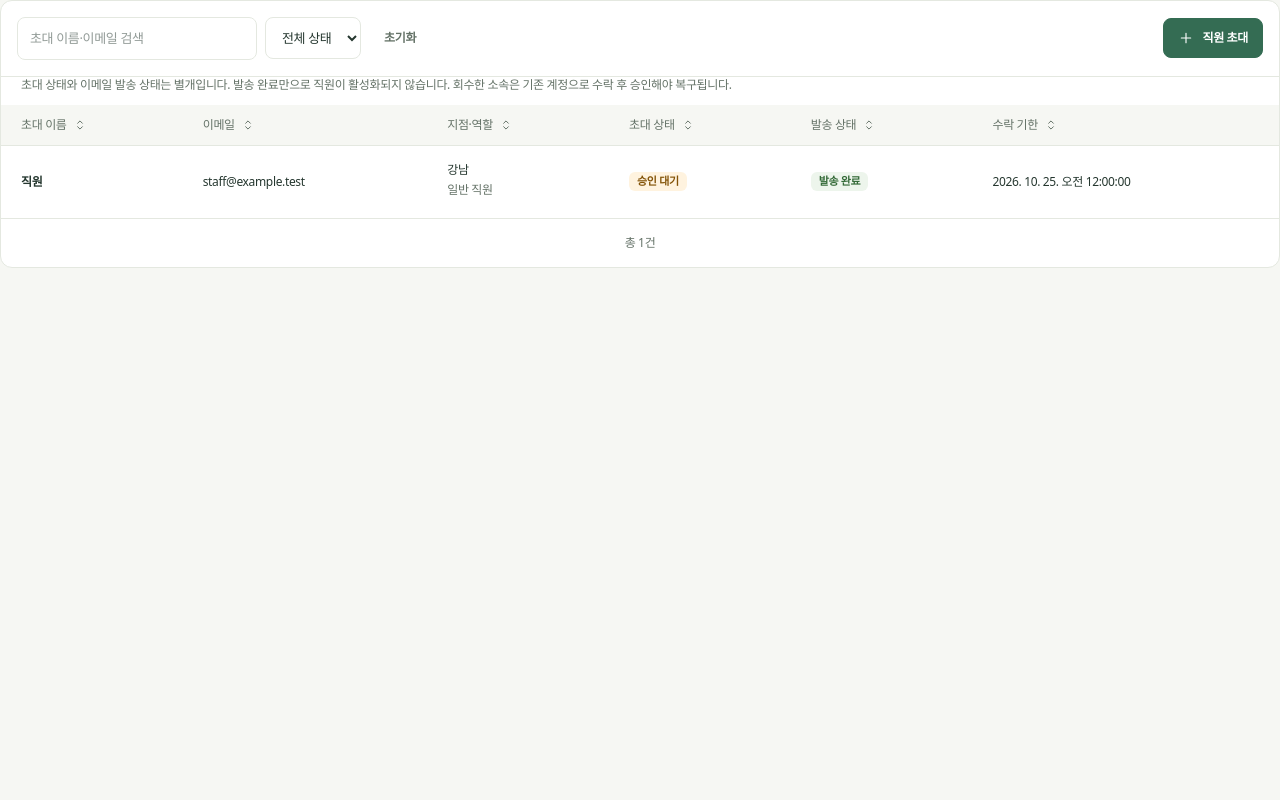
Test: keeps the rejection reason across a conflict and uses the explicitly refreshed version
Step 1. Click the button "직원" → (32, 182), box [21,174,42,190]
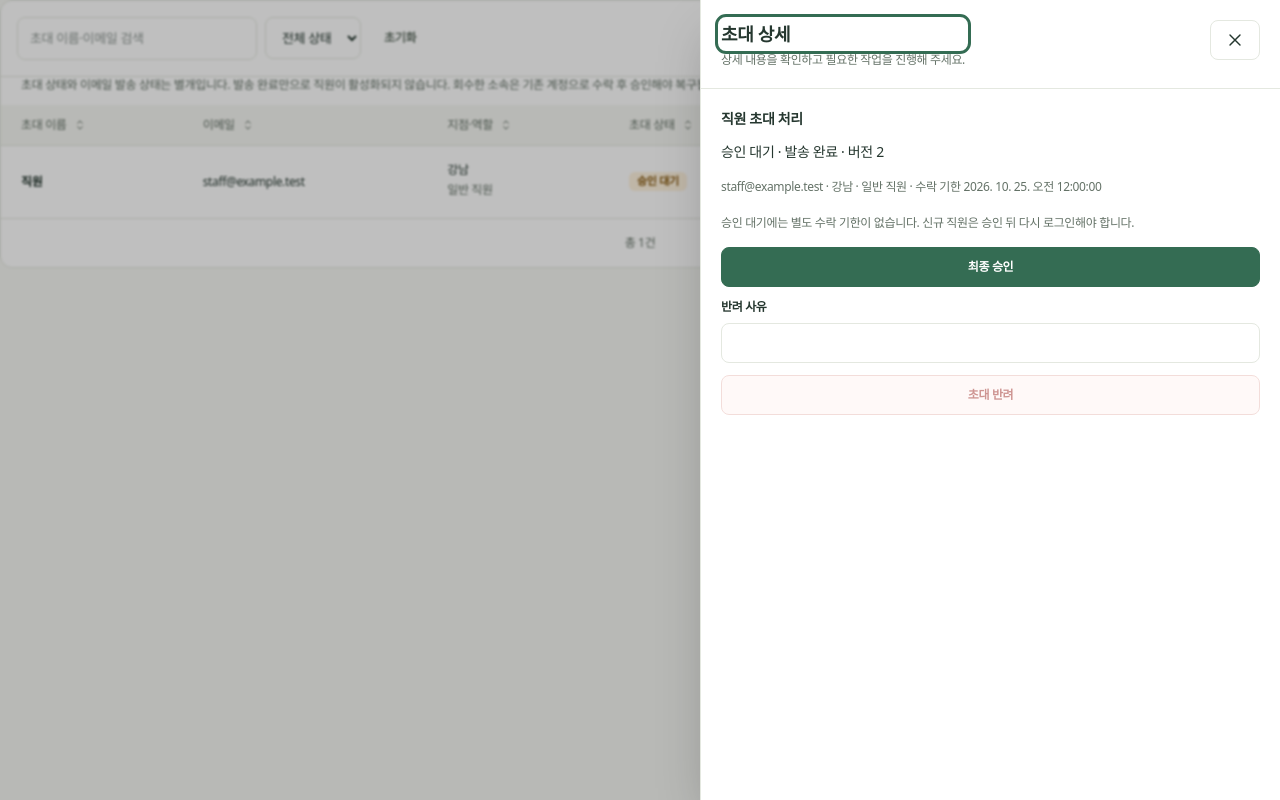
Step 2. Type "일정 확인 필요" into the field labelled "반려 사유" → (990, 343), box [721,323,1260,363]
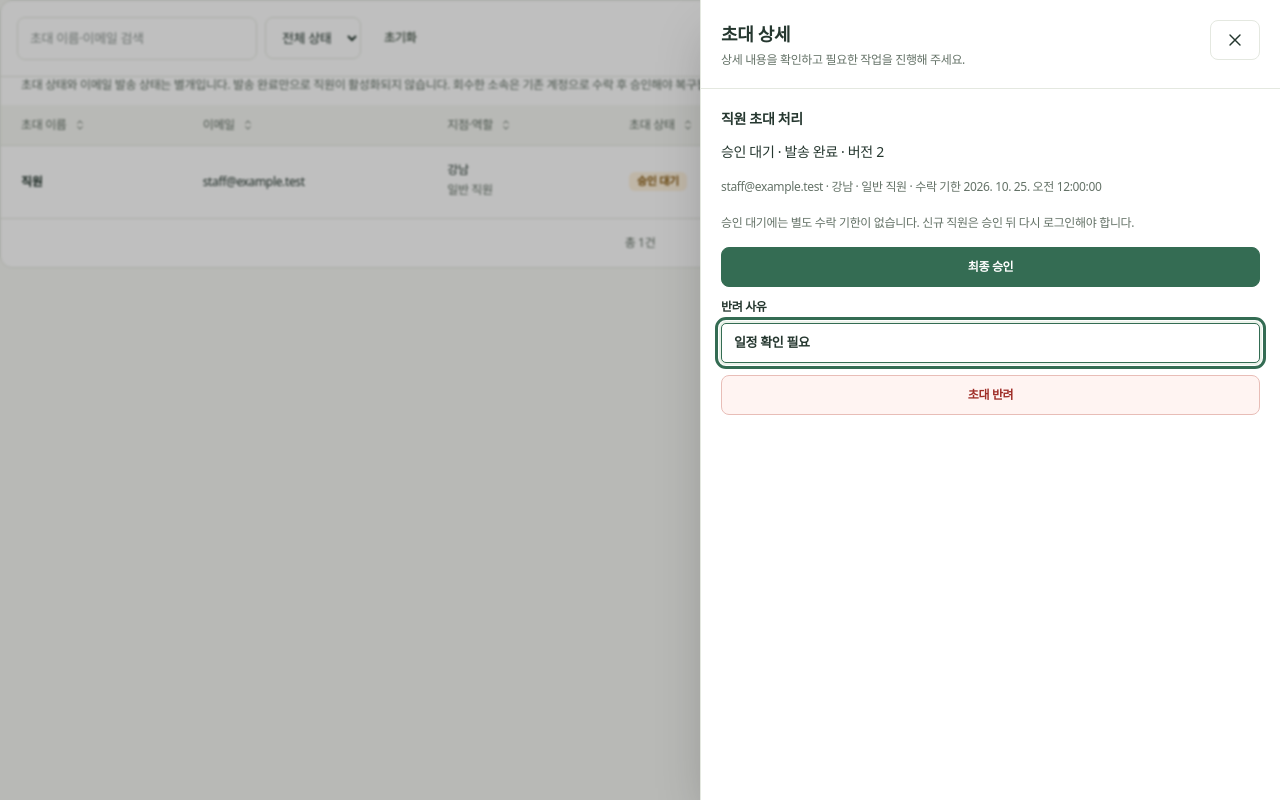
Step 3. Click the button "초대 반려" → (990, 395), box [721,375,1260,415]
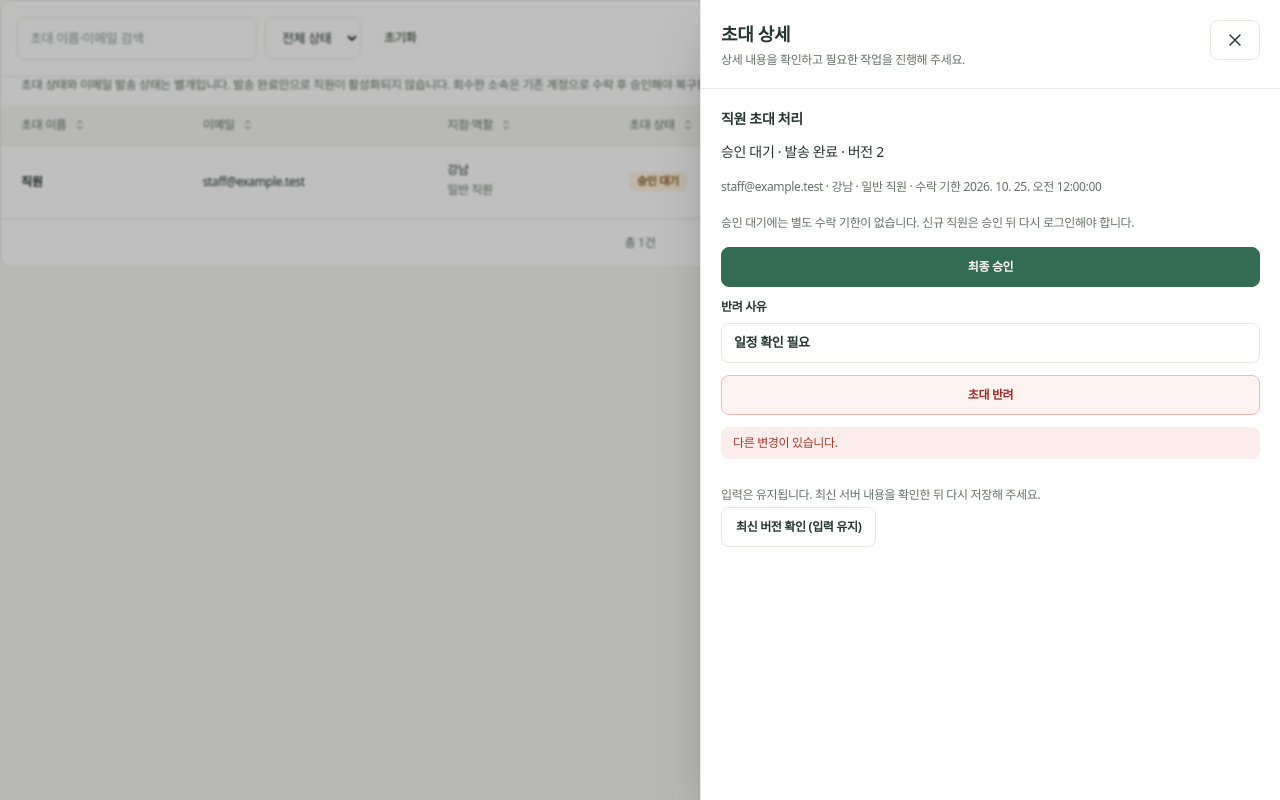
Check: the text "다른 변경이 있습니다." is shown, box [721,427,1260,459]
Step 4. Click the button "최신 버전 확인 (입력 유지)" → (799, 527), box [721,507,876,547]
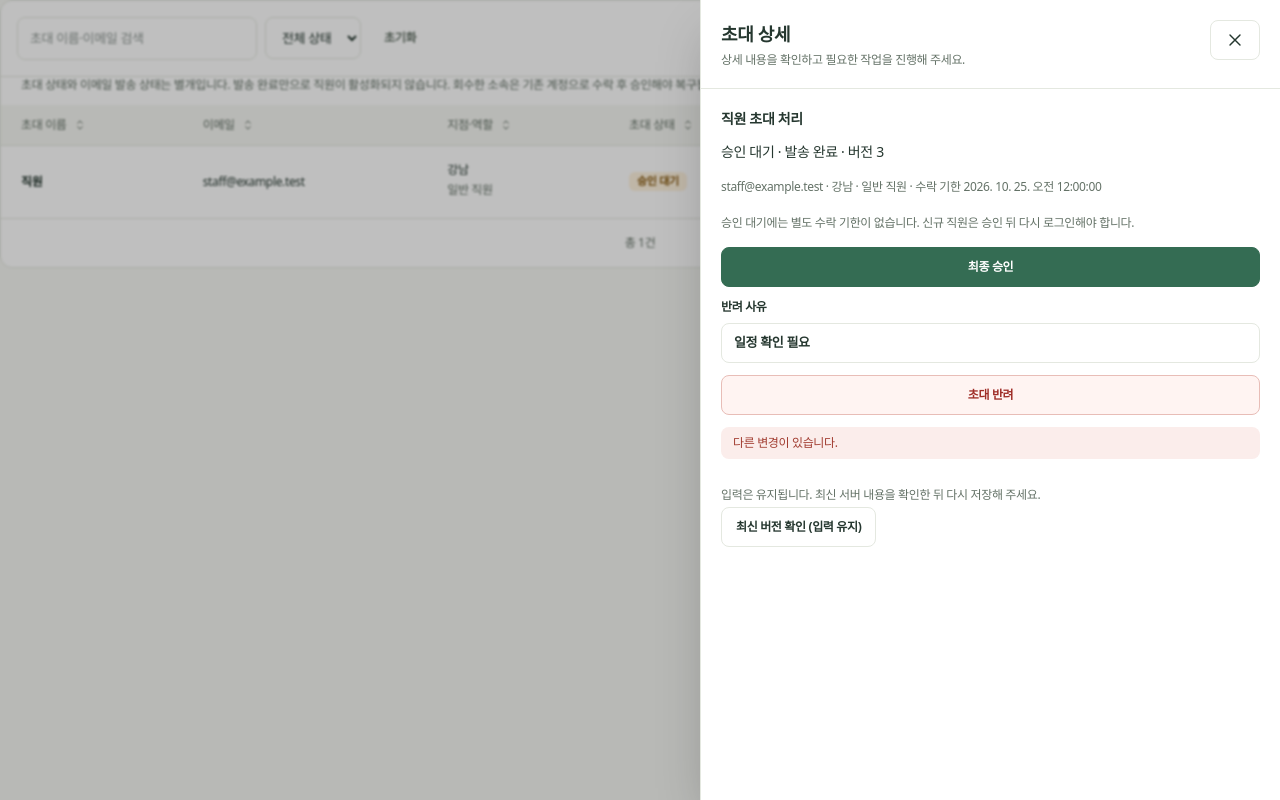
Check: the button "초대 반려" is enabled
Check: the text "승인 대기 · 발송 완료 · 버전 3" is shown, box [721,142,884,161]
Step 5. Click the button "초대 반려" → (990, 395), box [721,375,1260,415]
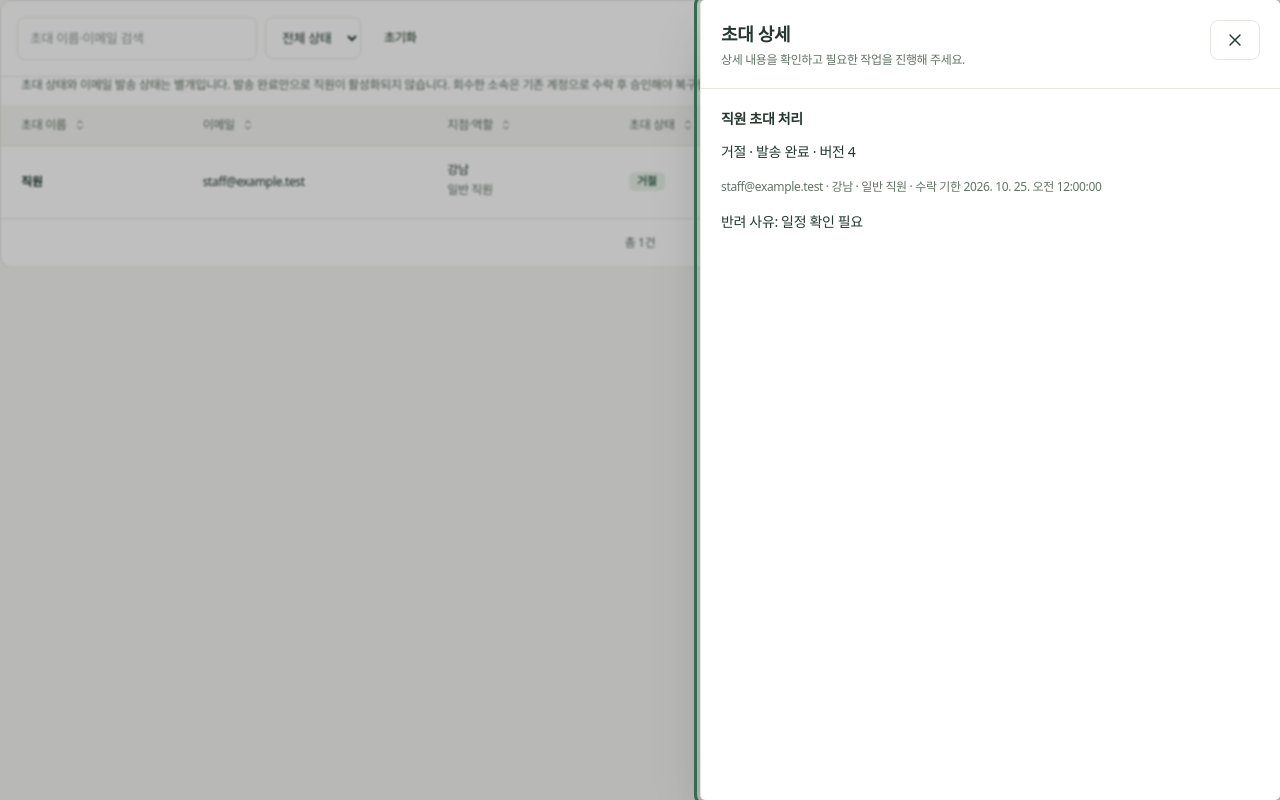
Check: the text "거절 · 발송 완료 · 버전 4" is shown, box [721,142,856,161]
